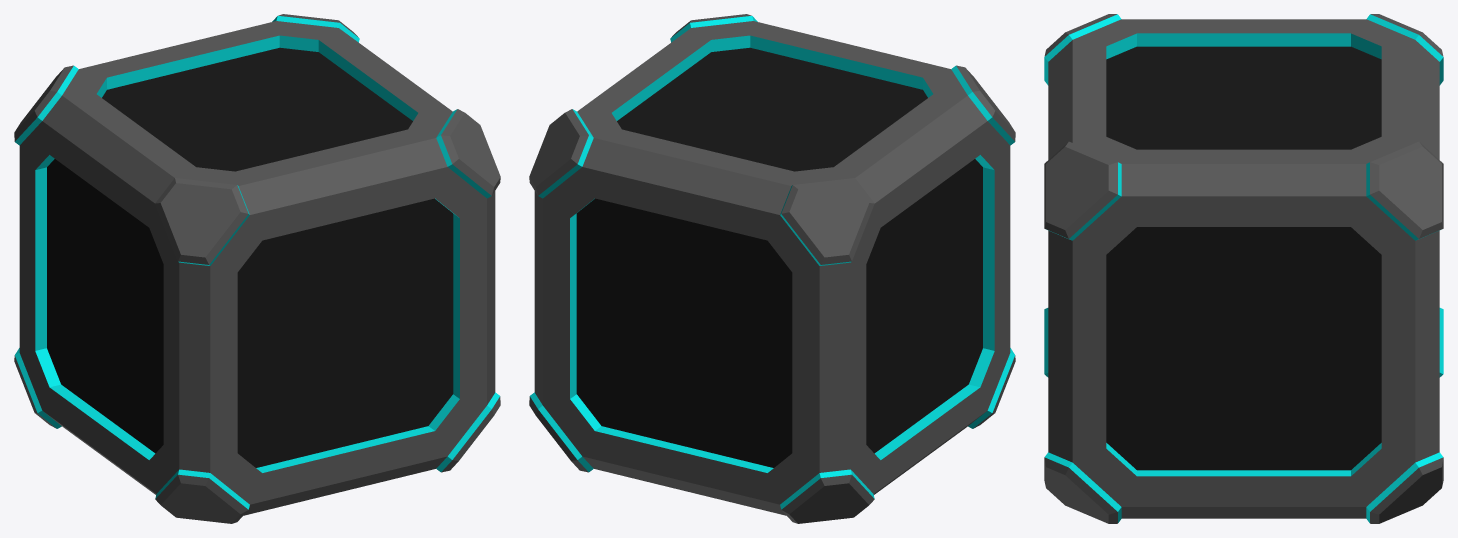
The model's file is Better_Cube.fbx.
3 renders of one model, left to right at view 1: azimuth 30°, elevation 25°; view 2: azimuth 150°, elevation 25°; view 3: azimuth 270°, elevation 25°, orthographic. The views are drawn at different scales.
Parts seen in each view (by area): view 1: pCube1; view 2: pCube1; view 3: pCube1.
Boxes of the visible parts, left/top/right/bottom form: pCube1: left=14, top=14, right=500, bottom=523; pCube1: left=529, top=14, right=1015, bottom=523; pCube1: left=1044, top=14, right=1443, bottom=523.
Bounding box in the file's own units: 24.46 × 24.46 × 24.46.
